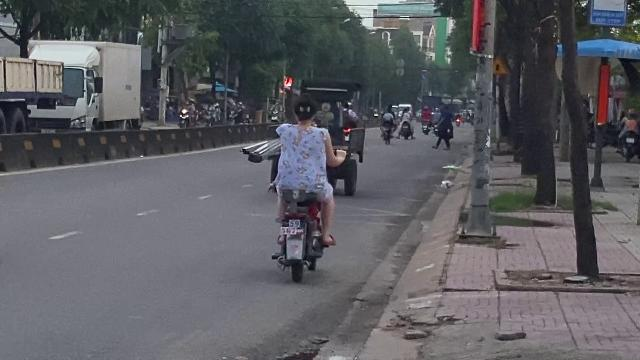motorcyclist: (266, 94, 348, 286)
nohelmet: (290, 96, 318, 128)
